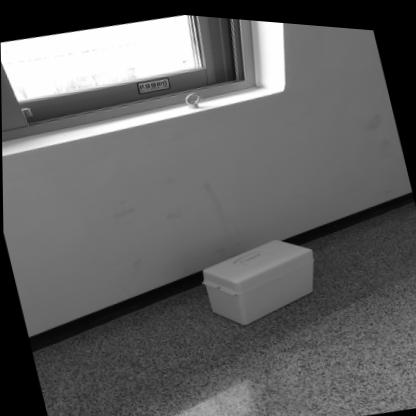DDL: (197, 221, 327, 334)
